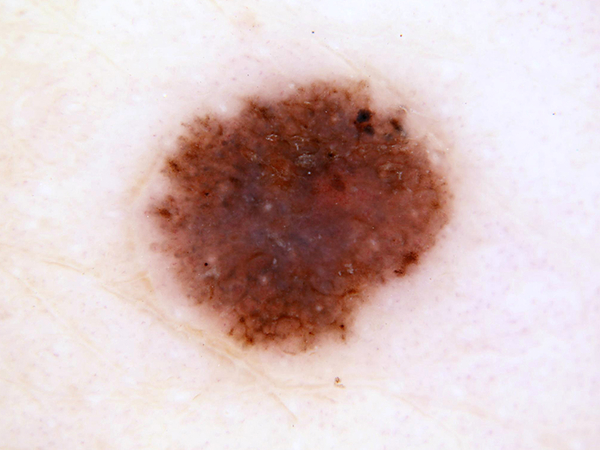Scab: (346, 108, 380, 140)
